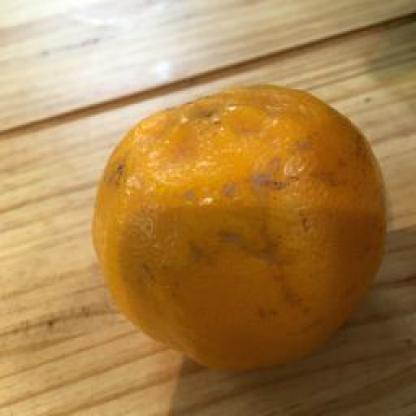orange_rotten: (86, 83, 396, 372)
